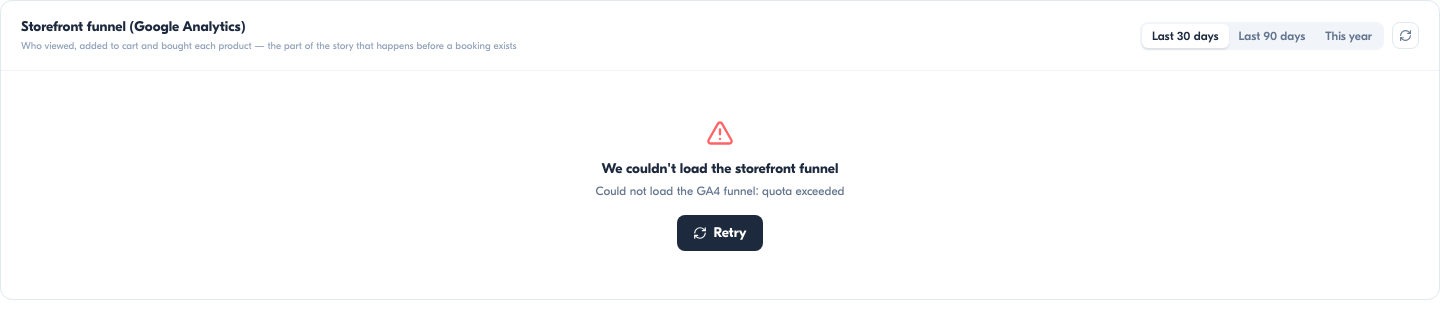
when the request fails › shows an error with Retry — never an empty funnel
Expected: the text "We couldn't load the storefront funnel" is shown, [602,160,838,177]
Expected: the text "Total" is not shown
Click the button "Retry" at (720, 233), box [677,215,763,251]
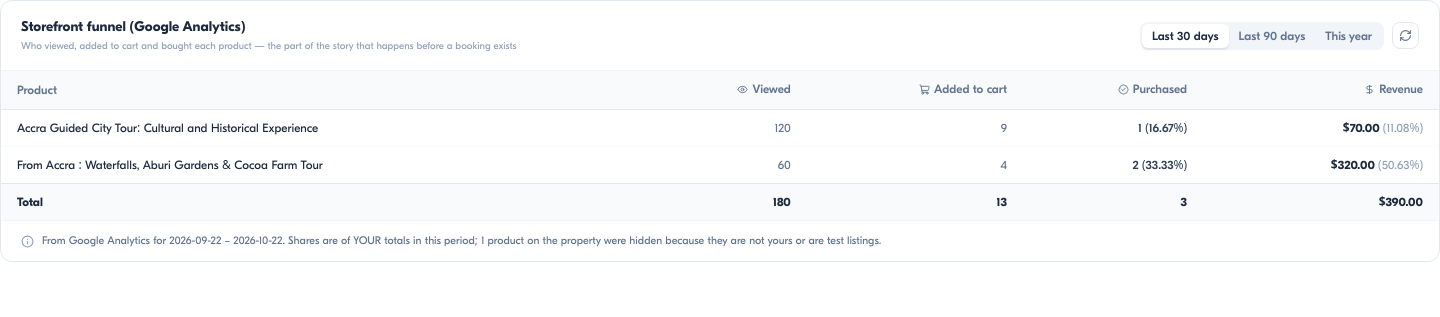
Expected: the text "Accra Guided City Tour: Cultural and Historical Experience" is shown, [17,120,318,134]
